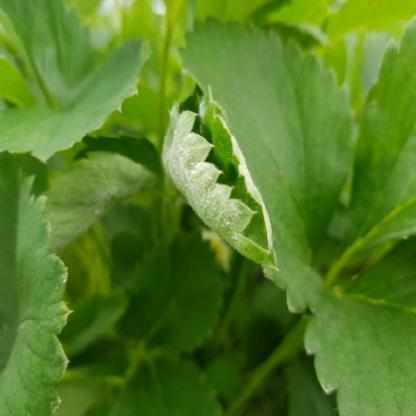Strawberry_Powdery_Mildew_Leaf: (160, 82, 280, 272)
